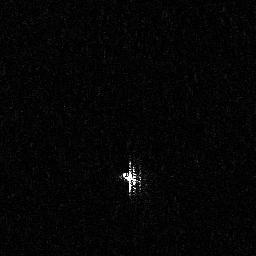ship: (116, 155, 145, 199)
